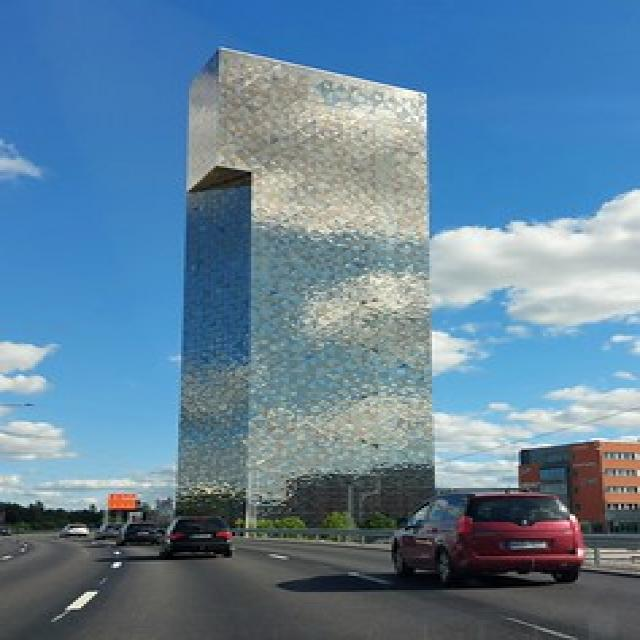Normal_building: (174, 44, 444, 552)
